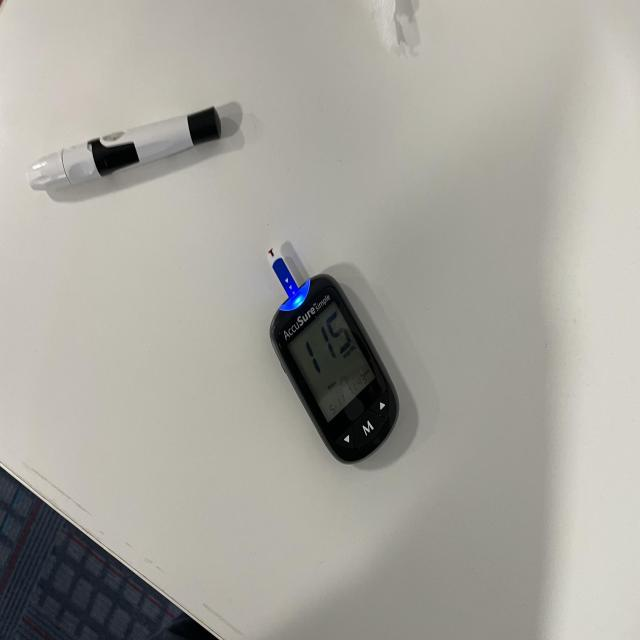gluco: (269, 249, 407, 467)
